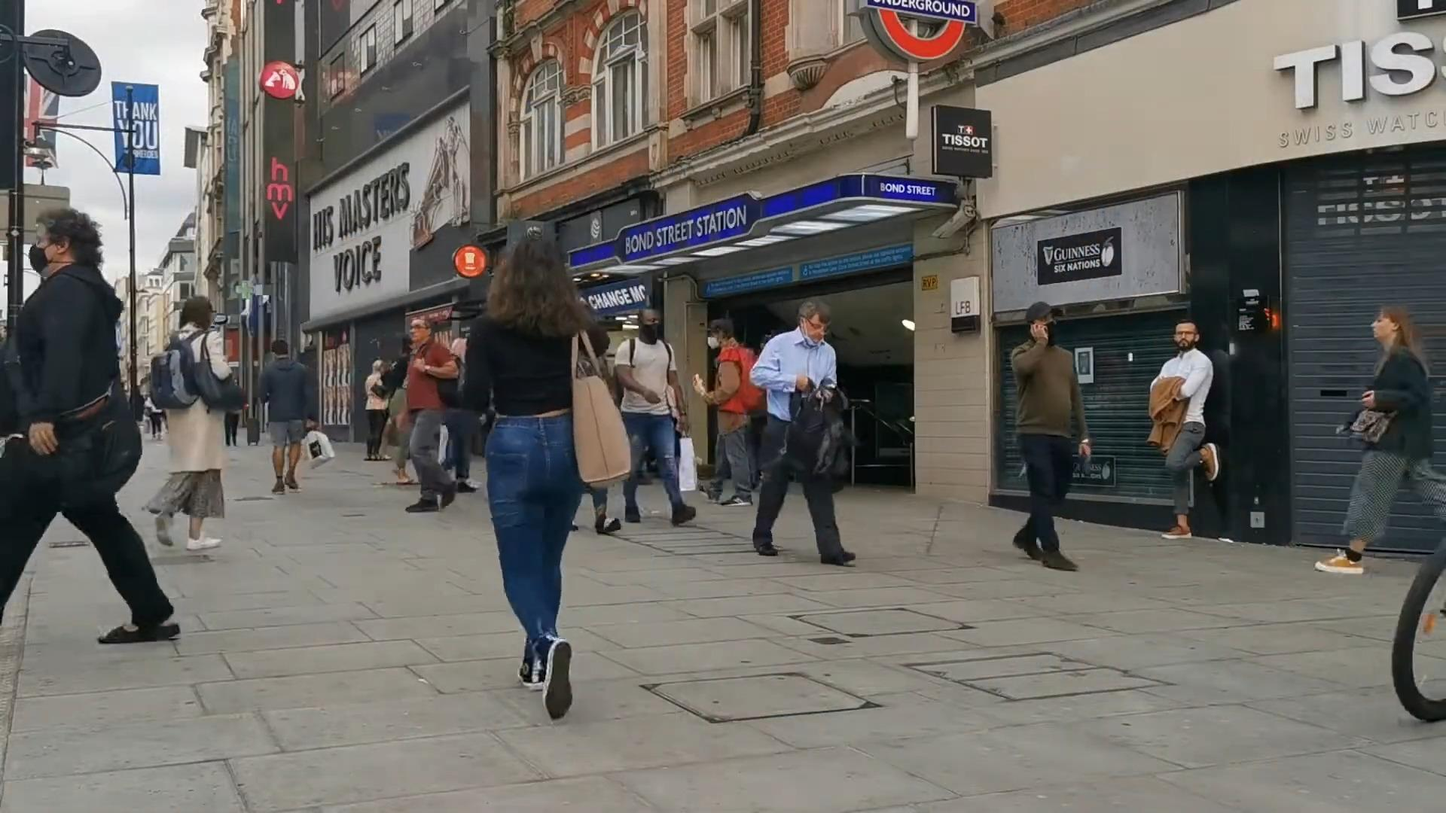no-helmet: (489, 238, 580, 319), (29, 207, 103, 278), (1026, 300, 1064, 347), (797, 297, 832, 347), (1371, 306, 1414, 346), (179, 294, 217, 331), (1172, 319, 1200, 352), (707, 318, 734, 349), (637, 307, 662, 340), (409, 319, 433, 342), (271, 339, 289, 359)
